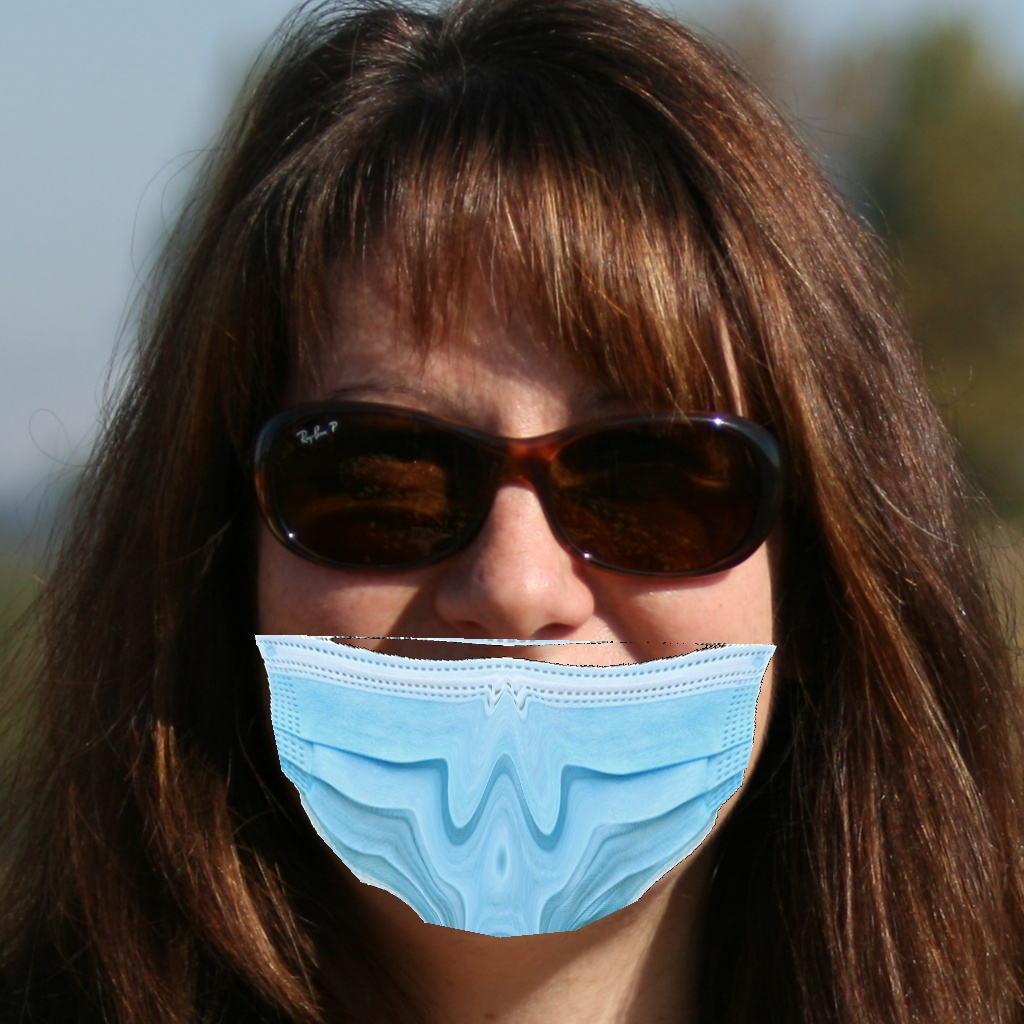mascarilla_mal_puesta: (282, 355, 767, 878)
